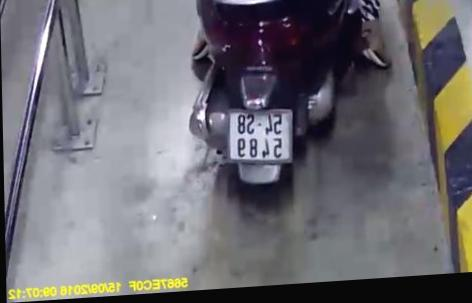License_Plate: (223, 104, 298, 167)
